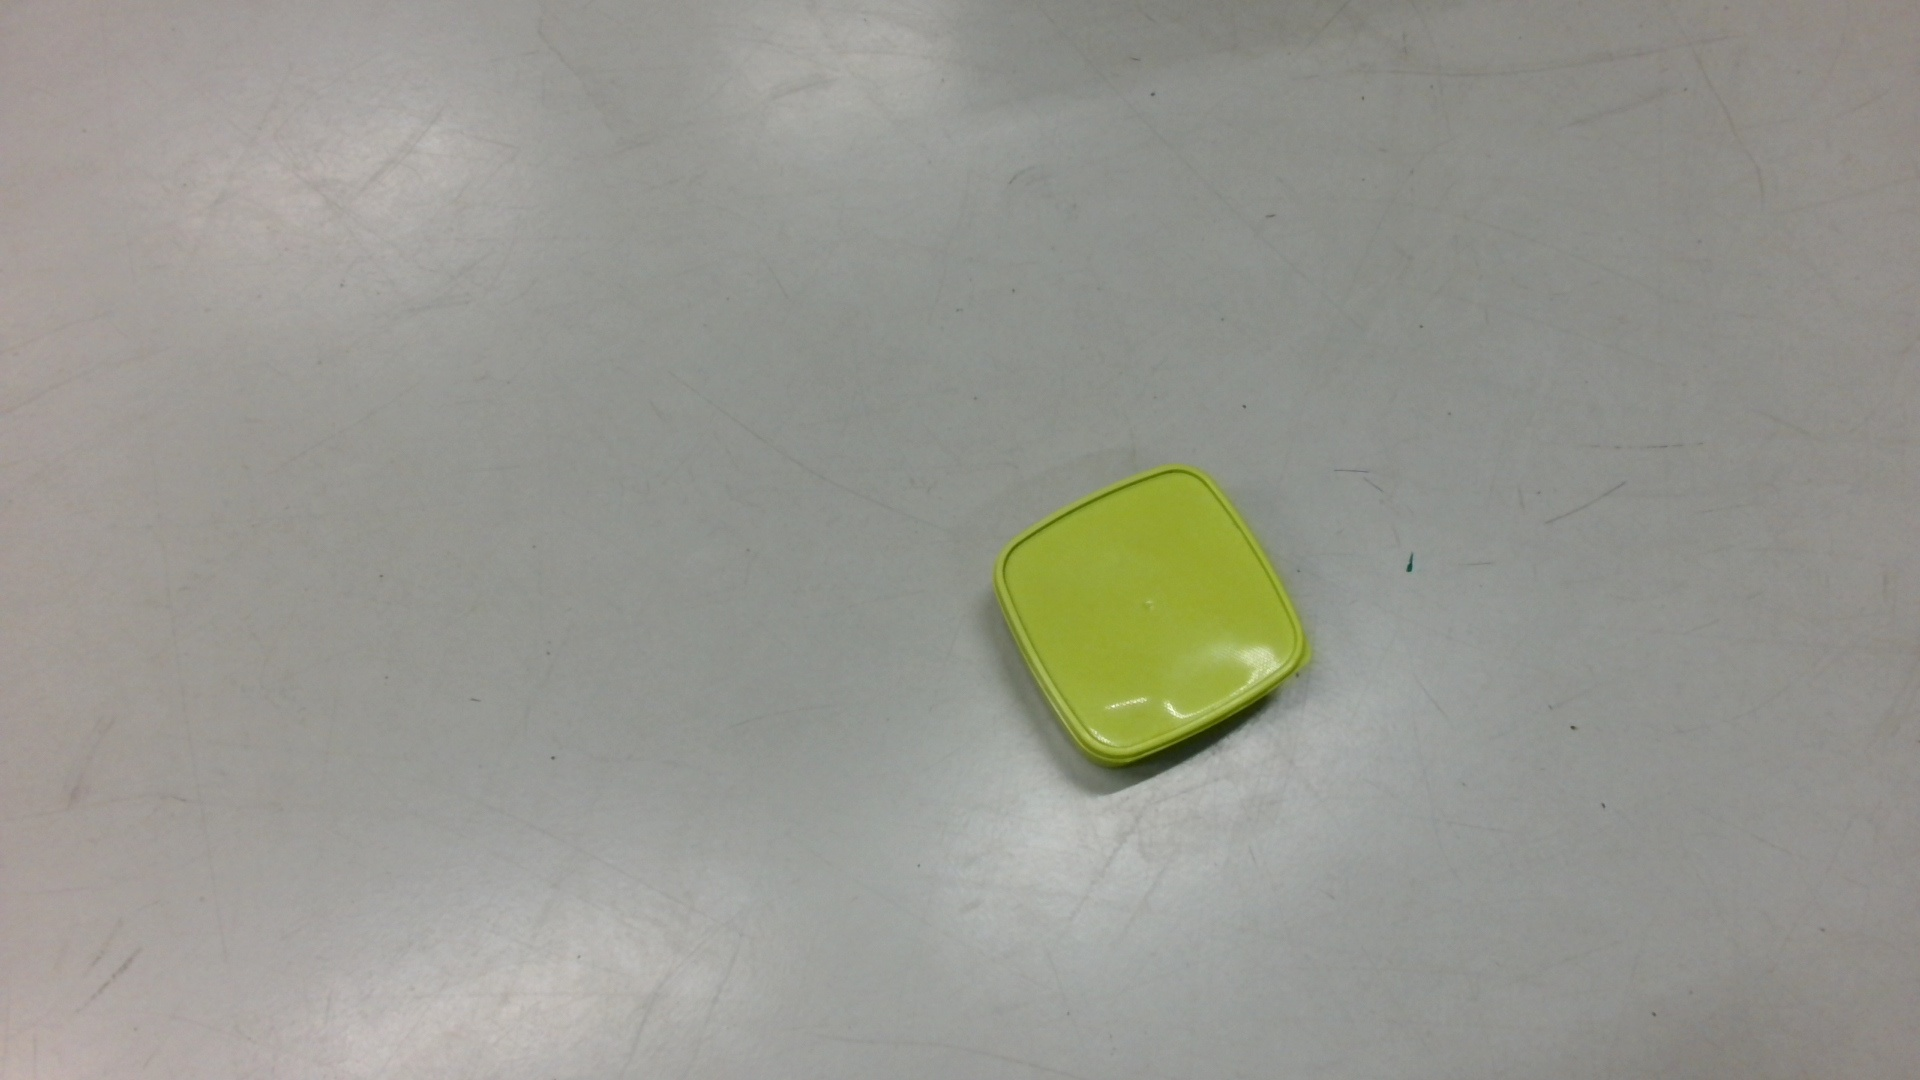Box: (990, 462, 1316, 777)
